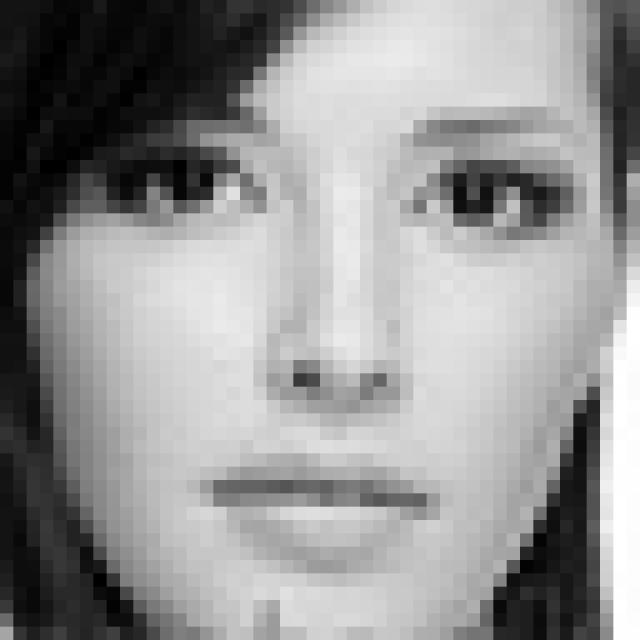neutral: (116, 87, 591, 582)
